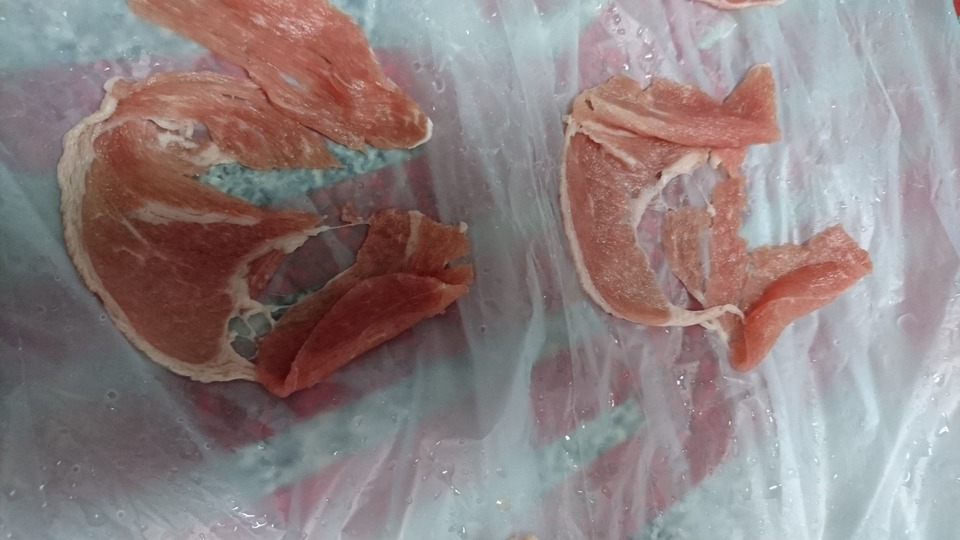restructured meat: (79, 13, 483, 376), (542, 67, 903, 376)
